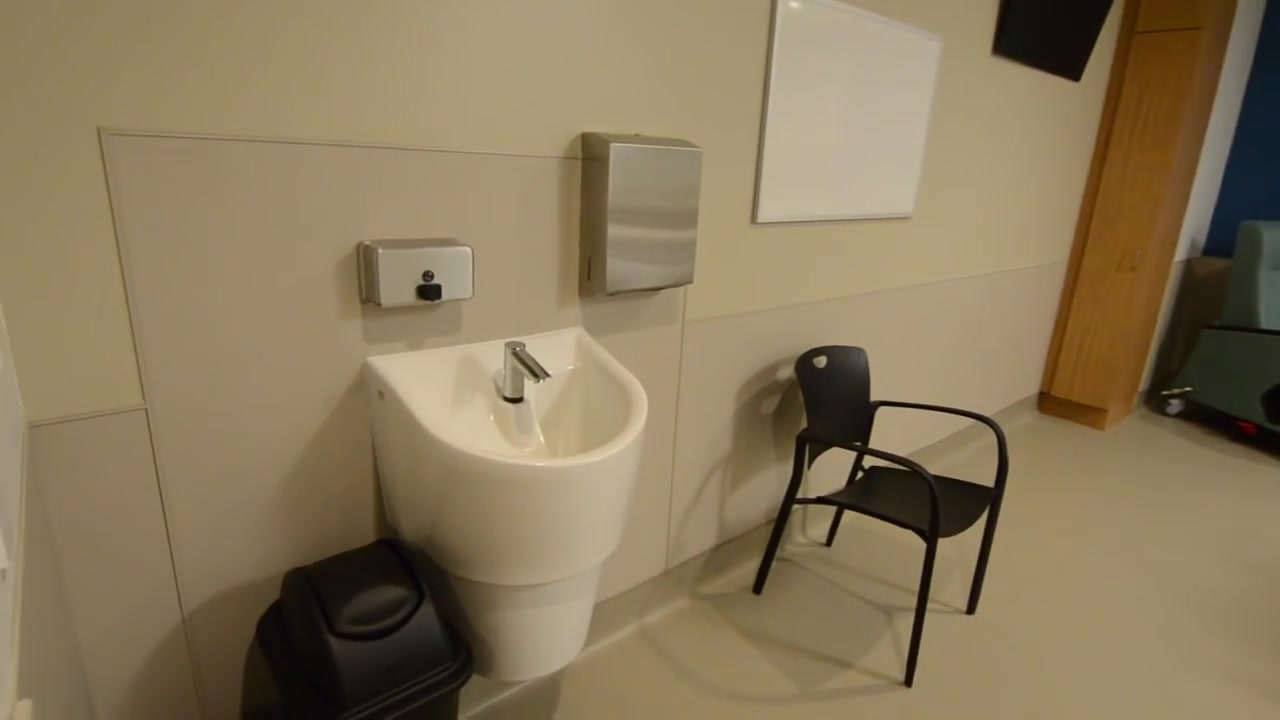TV: (991, 1, 1115, 82)
chair: (751, 345, 1009, 688)
dispenser: (578, 131, 705, 298), (356, 237, 476, 309)
faucet: (502, 340, 552, 404)
handle: (1132, 248, 1143, 270)
sink: (366, 325, 648, 458)
sofa: (1160, 216, 1280, 454)
waste_bin: (240, 538, 475, 720)
